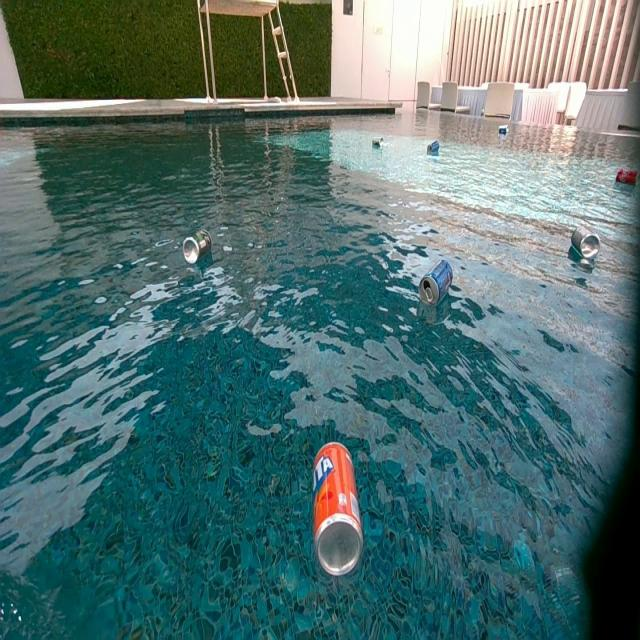Cans: (314, 437, 367, 575), (419, 258, 452, 308), (181, 229, 211, 264), (572, 228, 602, 260), (616, 168, 639, 186), (427, 140, 440, 154), (373, 137, 385, 149), (498, 126, 508, 136)
